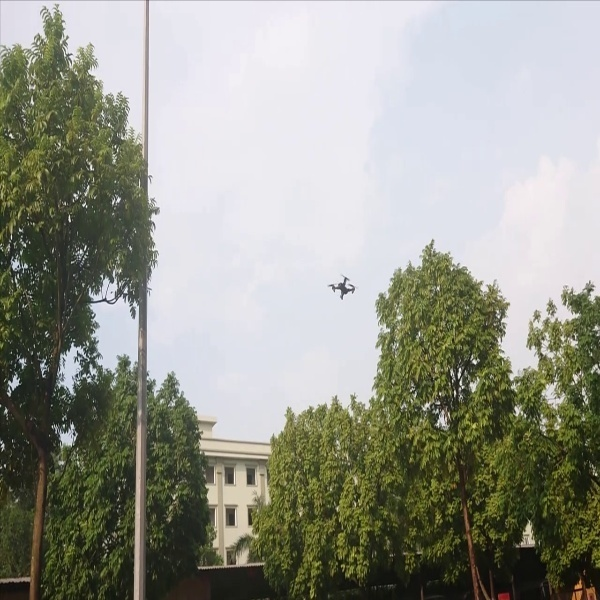drone: (323, 265, 359, 304)
